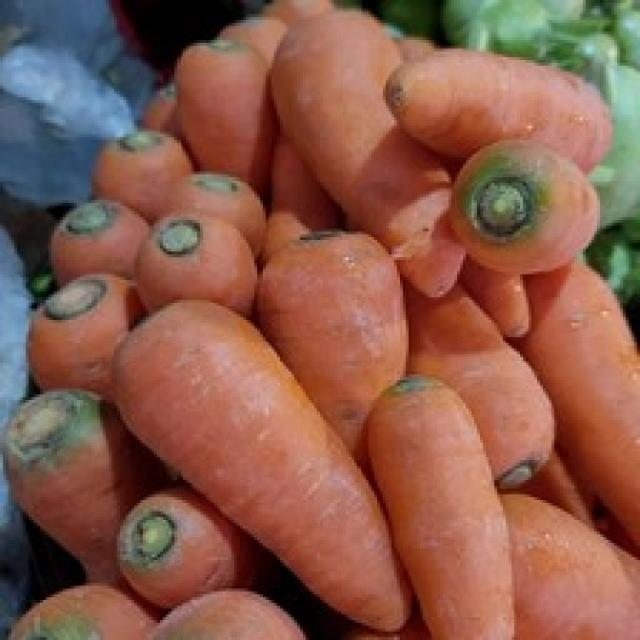Fresh_Carrot: (114, 313, 413, 632), (383, 387, 518, 640)
